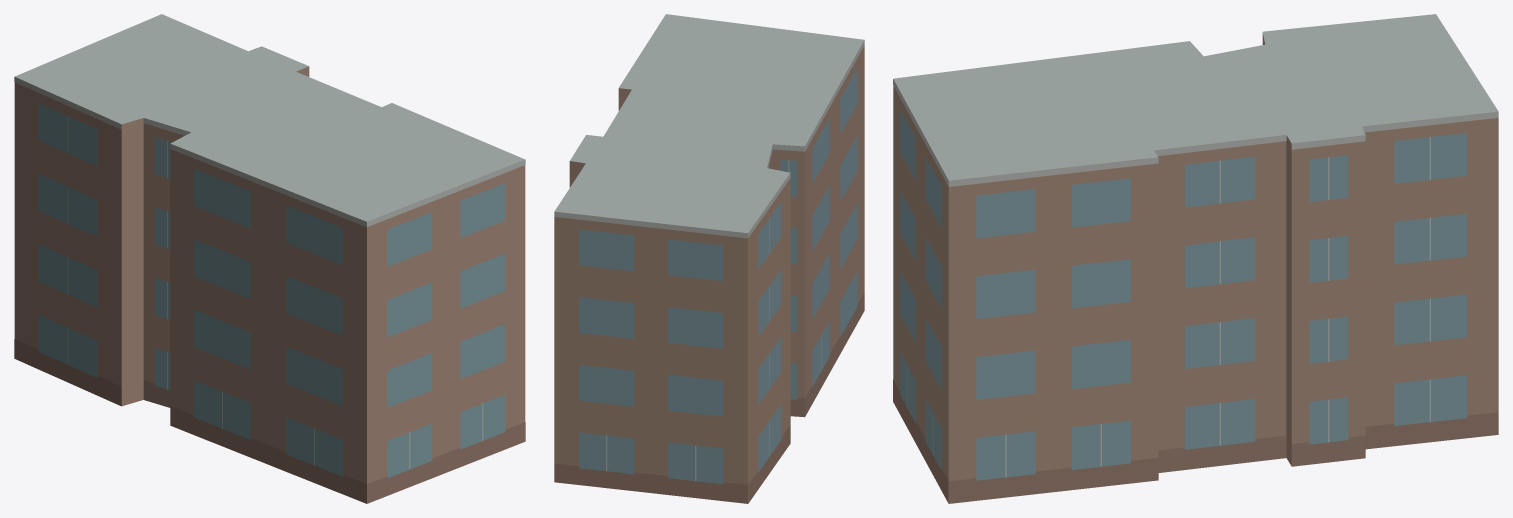
Rendered from survey-upis-32647069.glb.
3 renders of one model, left to right at view 1: azimuth 30°, elevation 25°; view 2: azimuth 150°, elevation 25°; view 3: azimuth 270°, elevation 25°, orthographic. The views are drawn at different scales.
Parts seen in each view (by area): view 1: survey-upis-32647069.tmp; view 2: survey-upis-32647069.tmp; view 3: survey-upis-32647069.tmp.
Part boxes in pixels (x1=…): survey-upis-32647069.tmp: x1=14, y1=14, x2=525, y2=503; survey-upis-32647069.tmp: x1=554, y1=14, x2=864, y2=503; survey-upis-32647069.tmp: x1=893, y1=14, x2=1498, y2=503.
Bounding box in the file's own units: 14.07 × 12.7 × 21.59.
